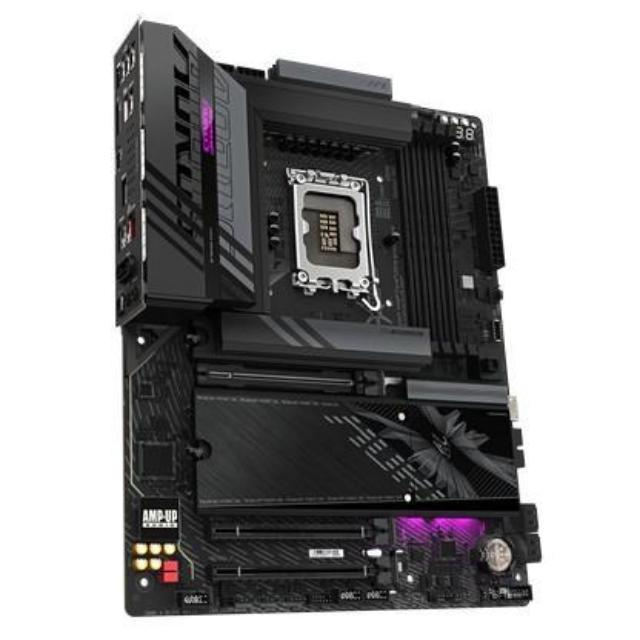Mainboard: (98, 14, 550, 631)
